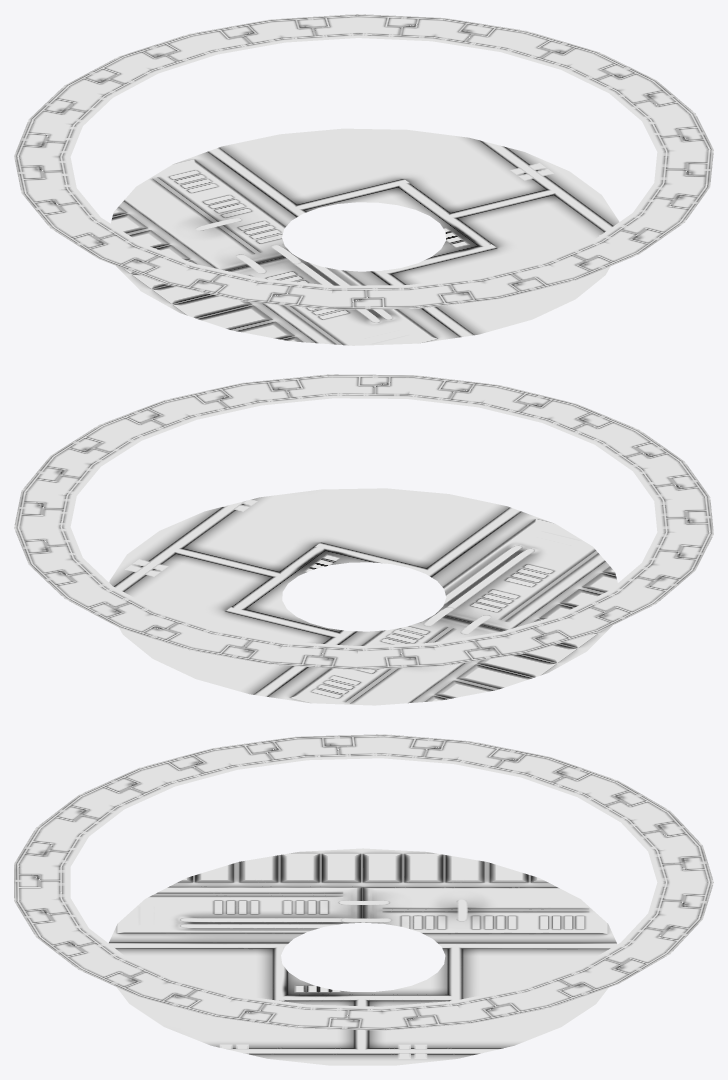
The model's file is Door_Holo.fbx.
The picture shows the model from 3 angles, top to bottom: view 1: azimuth 30°, elevation 25°; view 2: azimuth 150°, elevation 25°; view 3: azimuth 270°, elevation 25°; orthographic projection.
Parts seen in each view (by area): view 1: Cylinder.006, Cylinder.005; view 2: Cylinder.006, Cylinder.005; view 3: Cylinder.006, Cylinder.005.
Boxes of the visible parts, x1,y1,x2,y2 form: Cylinder.006: (111,128,619,345); Cylinder.005: (14,14,713,309); Cylinder.006: (109,488,617,705); Cylinder.005: (14,374,713,669); Cylinder.006: (108,848,617,1065); Cylinder.005: (14,734,713,1030).
Size of the model in its own units: 272 by 67.07 by 271.
